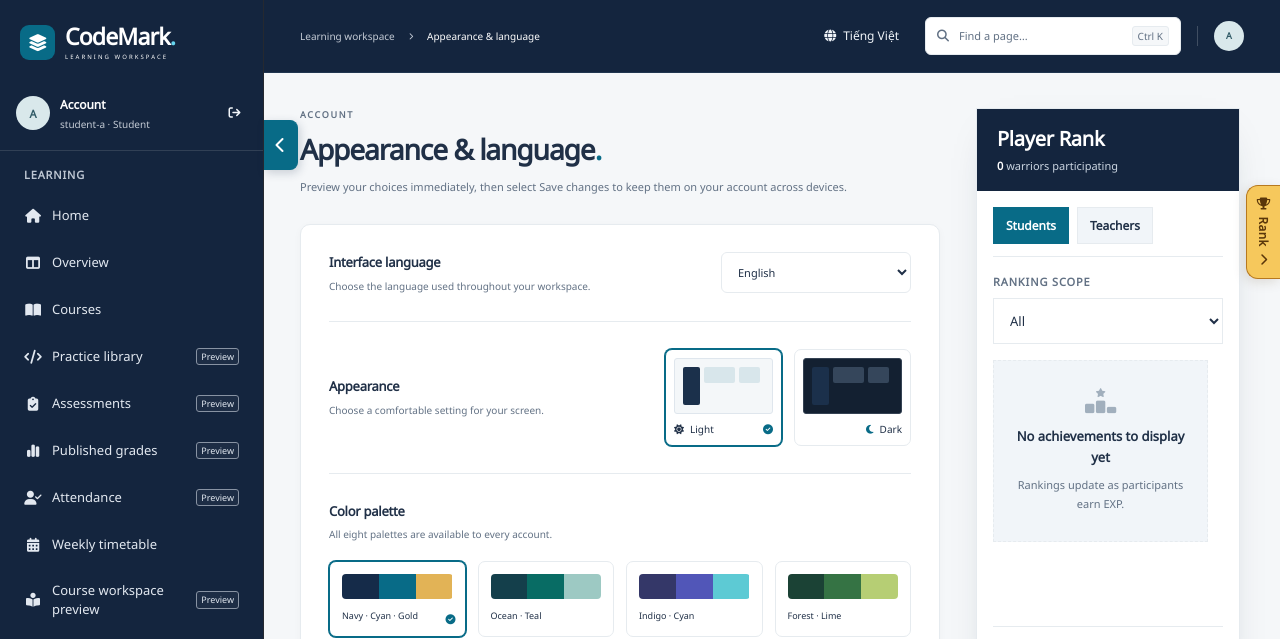
Appearance, language and palette behavior › previews dark mode, colors and Vietnamese immediately, and resets without saving
This screenshot has width=1280, height=639.
Later steps or results of the test are not shown.
Expected: the dropdown named "Interface language" is shown, [721, 252, 911, 293]
Click the button "Dark": (852, 397) [794, 349, 911, 446]
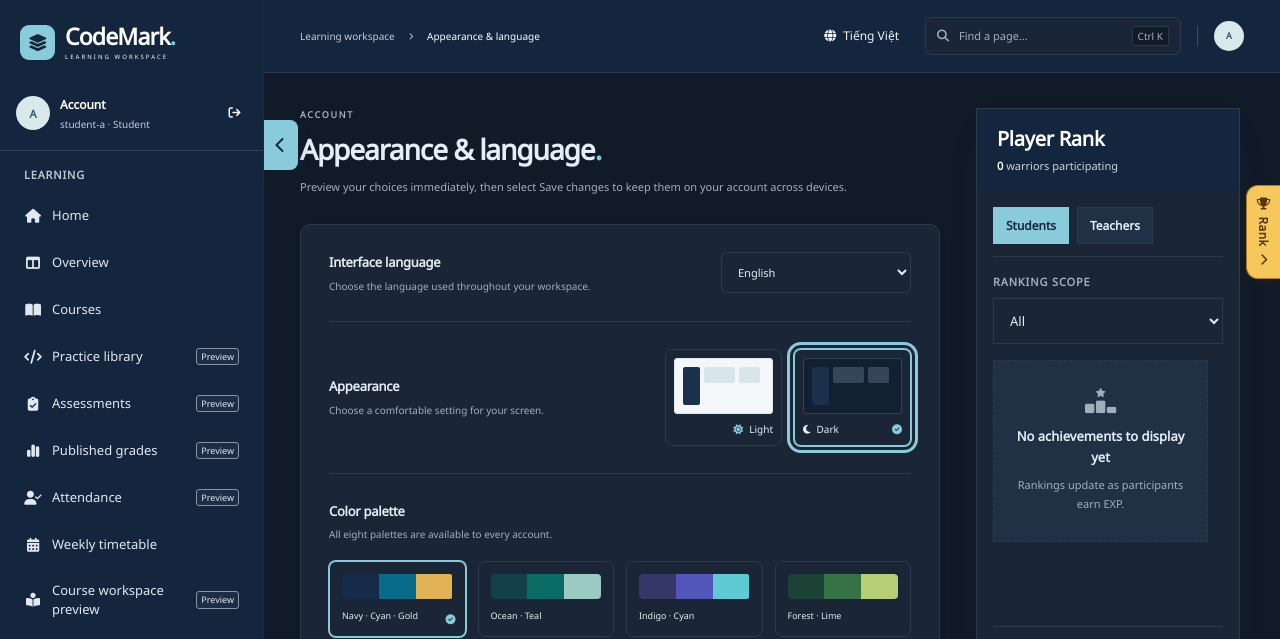
Click the button "Forest · Lime": (843, 599) [774, 561, 911, 637]
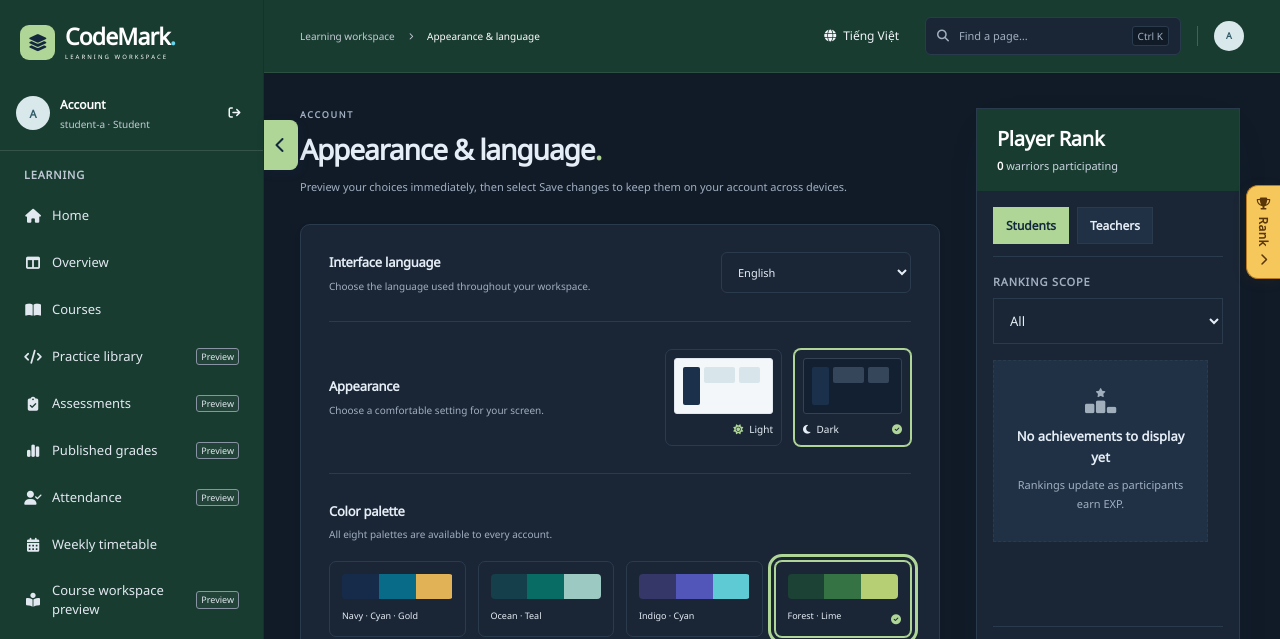
Select "Tiếng Việt" in the dropdown named "Interface language": (816, 273) [721, 252, 911, 293]
(page scrolled)
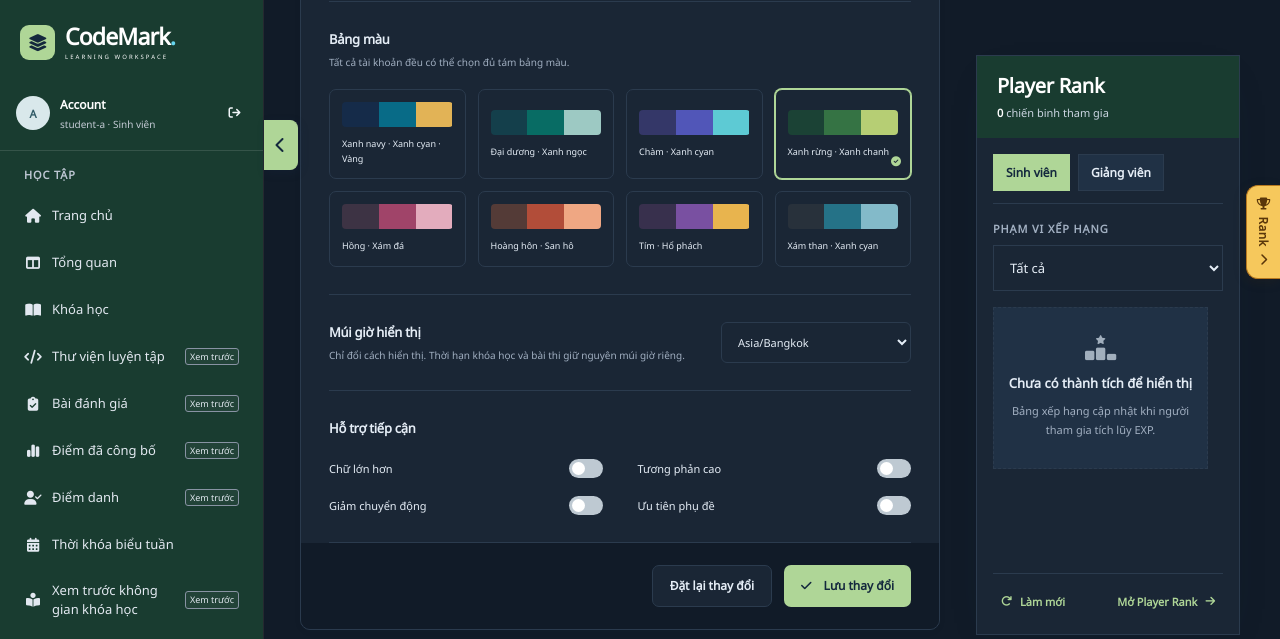
Result: the button "Xanh rừng · Xanh chanh" is pressed at [774, 89, 911, 179]
